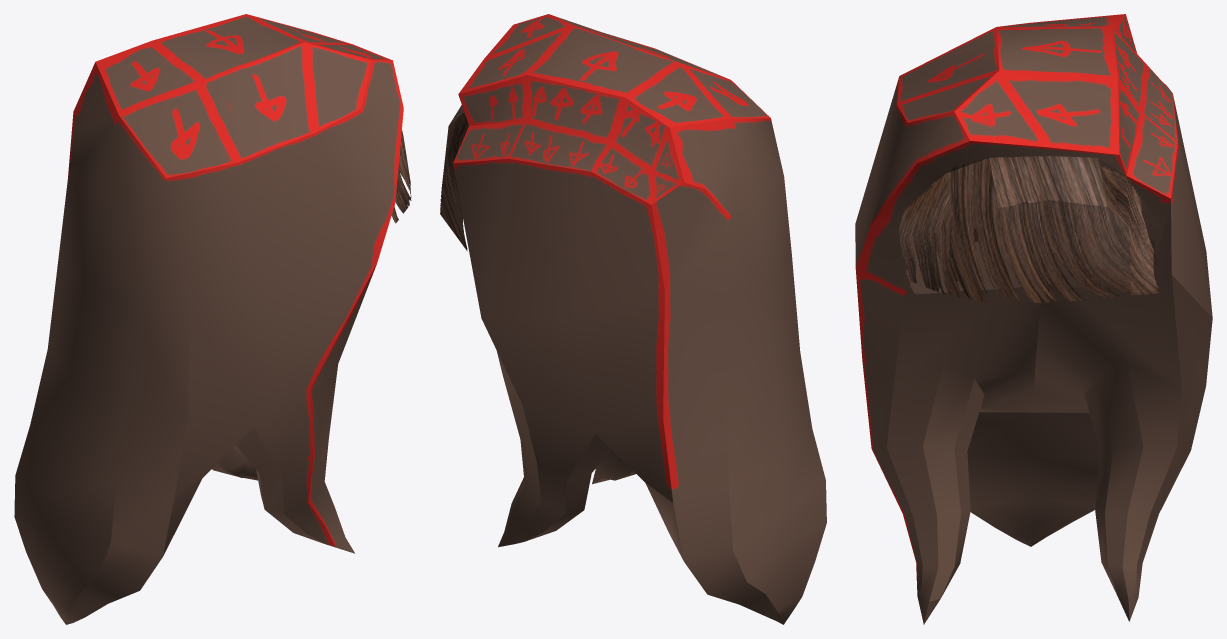
Rendered from HairCurrent1.fbx.
3 views of the same model, side by side, from view 1: azimuth 30°, elevation 25°; view 2: azimuth 150°, elevation 25°; view 3: azimuth 270°, elevation 25° (orthographic). The views are drawn at different scales.
Parts seen in each view (by area): view 1: Cube.003; view 2: Cube.003; view 3: Cube.003.
Boxes of the visible parts, x1=… form: Cube.003: x1=14, y1=14, x2=411, y2=624; Cube.003: x1=440, y1=14, x2=826, y2=624; Cube.003: x1=855, y1=14, x2=1212, y2=624.
Size of the model in its own units: 95.15 by 143 by 77.25.
